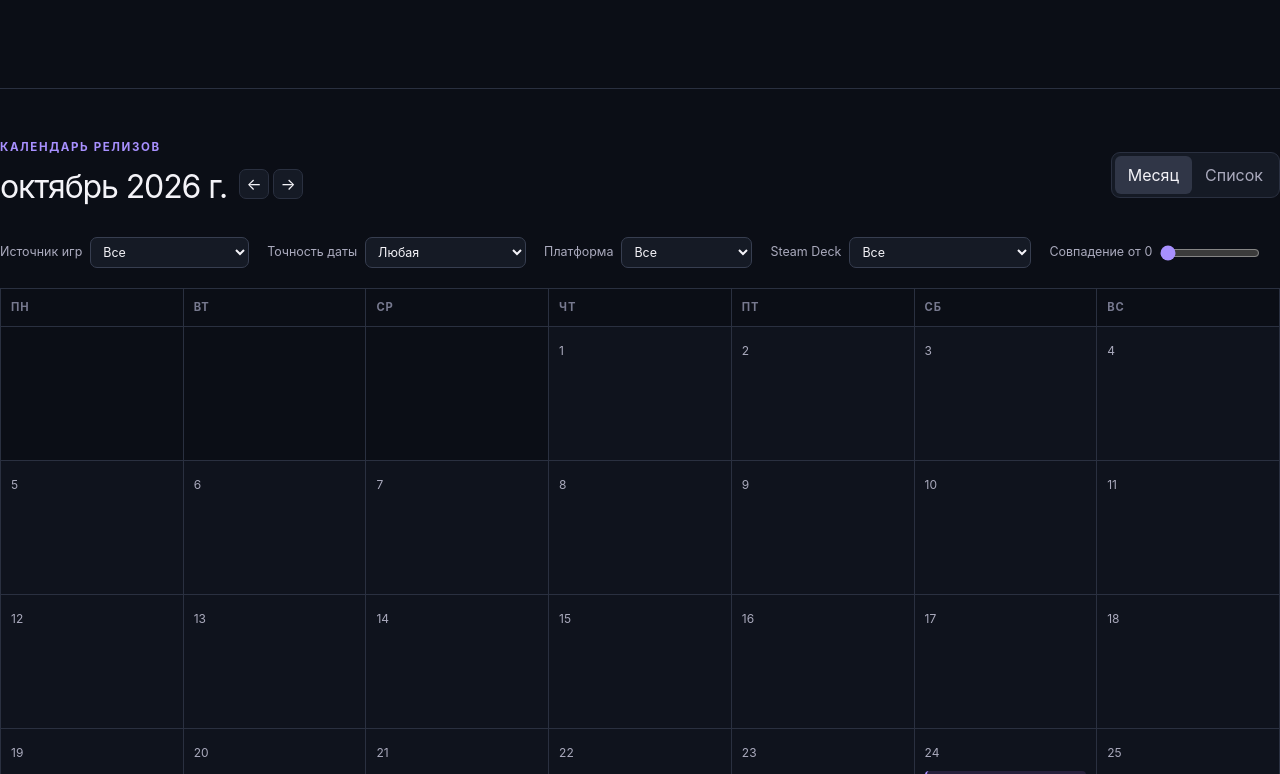
Test: CalendarPage › keeps bucket reactions visible but inert in demo mode
This screenshot has width=1280, height=774.
Click the button "Месяц" at (1153, 175), box [1115, 156, 1192, 194]
(page scrolled)
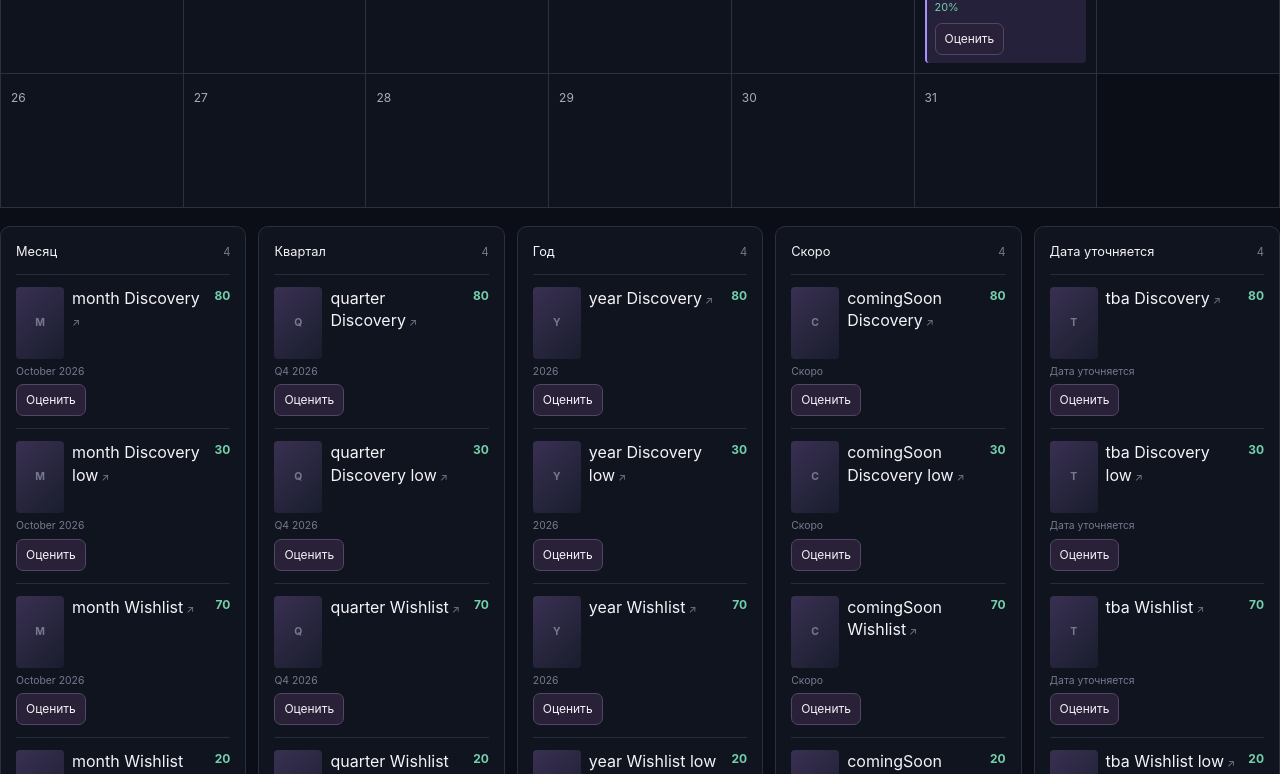
Click the 2nd button "Оценить" at (51, 400), box [16, 384, 86, 416]
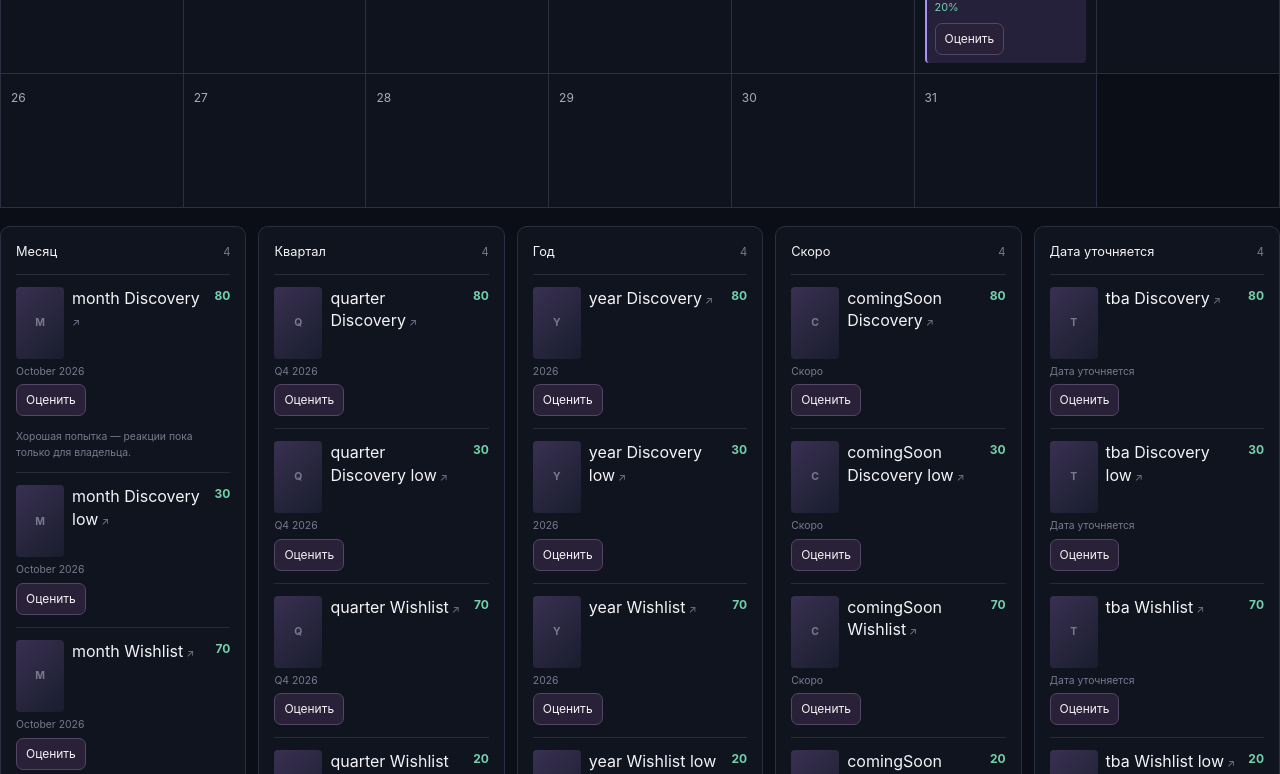
Result: the text "Хорошая попытка — реакции пока только для владельца." is shown at [16, 429, 206, 460]
